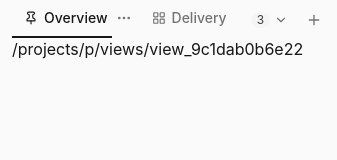
Scenario: one-line tabs with More › puts the tabs that don’t fit under More, never on a second line
What coordinates should you click on to do the following:
click the button named "More views (3)"
I would click on:
 (269, 20)
Its box is [243,6,296,34].
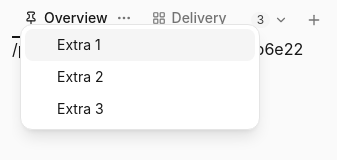
Expected: the menu item "Extra 1" is shown, [25,29,255,61]
What coordinates should you click on to do the following:
click the menu item "Extra 2"
I would click on:
 (140, 77)
Its box is [25,61,255,93].
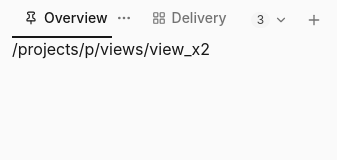
Expected: the text with test id "path" reads "/projects/p/views/view_x2", [12,39,210,59]
